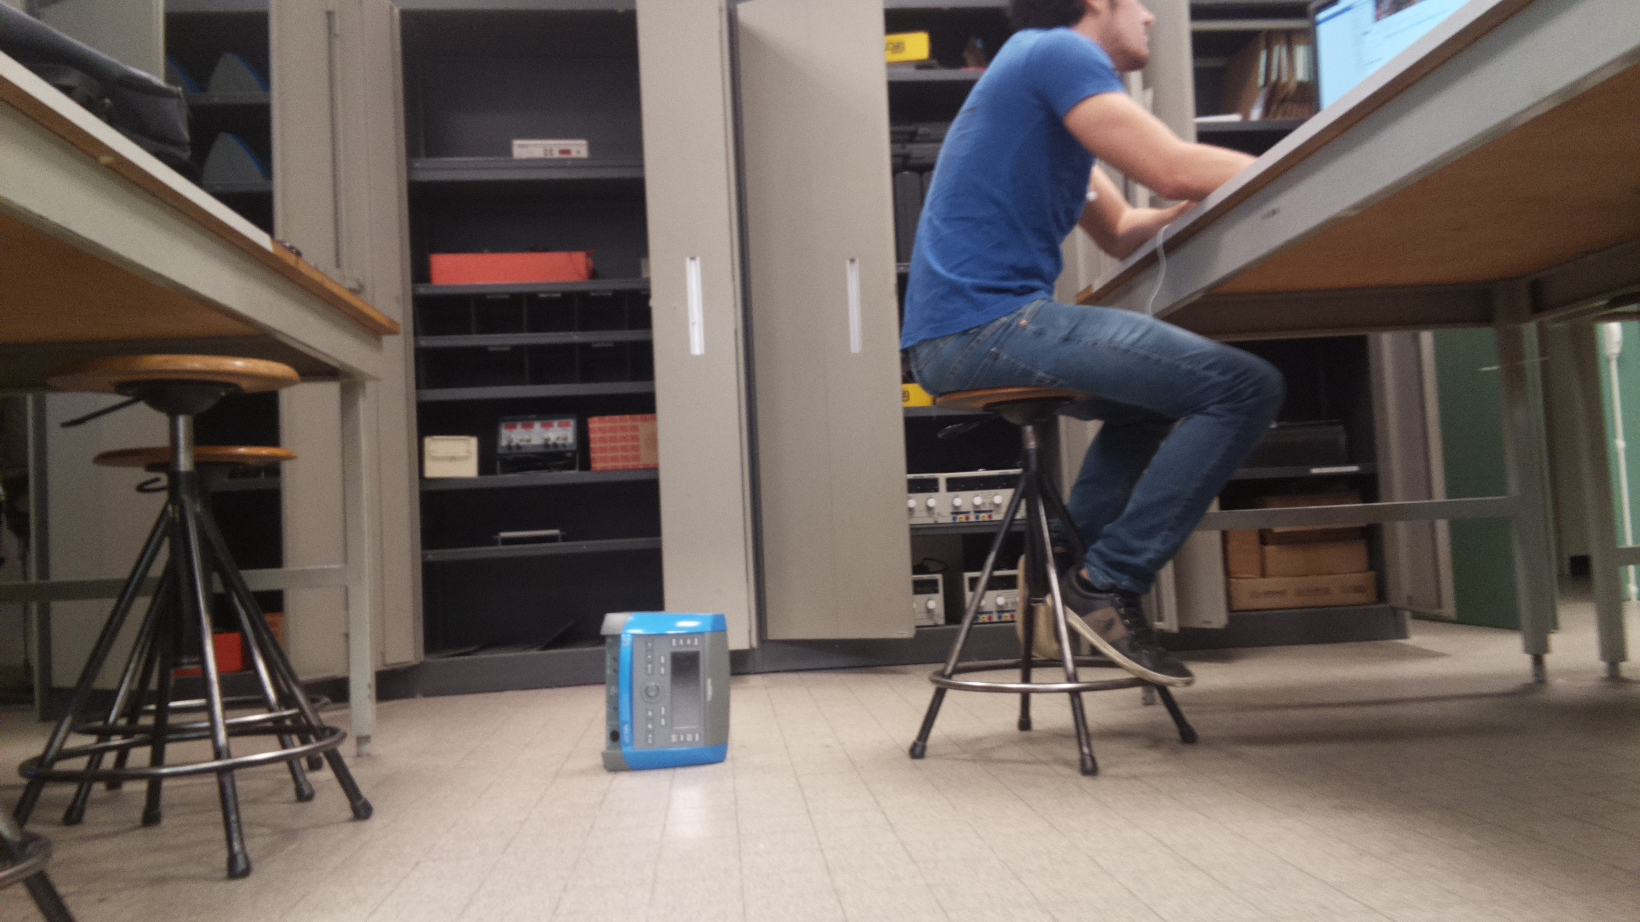medium: (601, 608, 731, 777)
